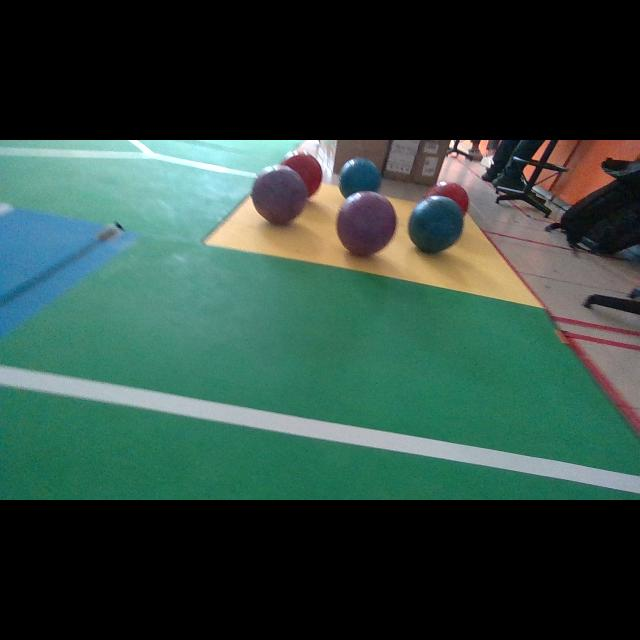B: (409, 195, 464, 253), (339, 159, 381, 197)
P: (336, 191, 396, 256), (251, 165, 308, 224)
R: (284, 154, 321, 196), (425, 181, 469, 213)
